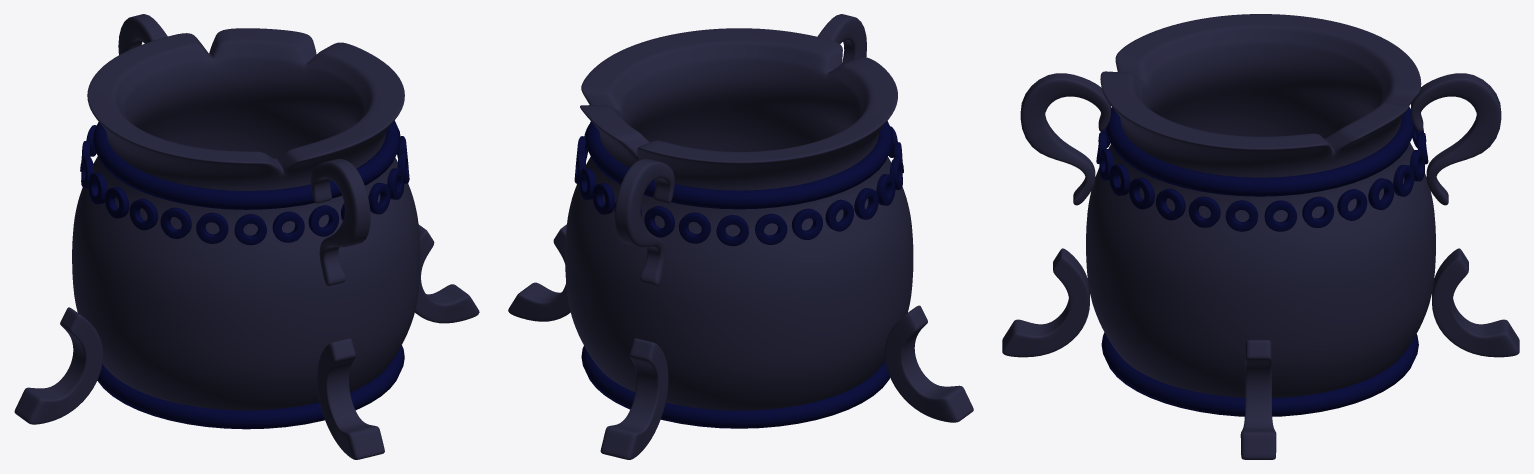
File: cauldron.fbx
3 views of the same model, side by side, from view 1: azimuth 30°, elevation 25°; view 2: azimuth 150°, elevation 25°; view 3: azimuth 270°, elevation 25° (orthographic).
Parts seen in each view (by area): view 1: Circle; view 2: Circle; view 3: Circle.
Part boxes in pixels (x1=…): Circle: x1=14, y1=14, x2=479, y2=459; Circle: x1=508, y1=14, x2=973, y2=459; Circle: x1=1002, y1=14, x2=1519, y2=459.
Bounding box in the file's own units: 394 × 231 × 389.
